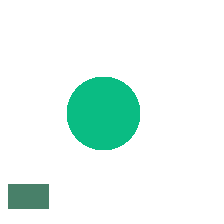circle: (67, 77, 139, 149)
rectangle: (8, 184, 48, 208)
